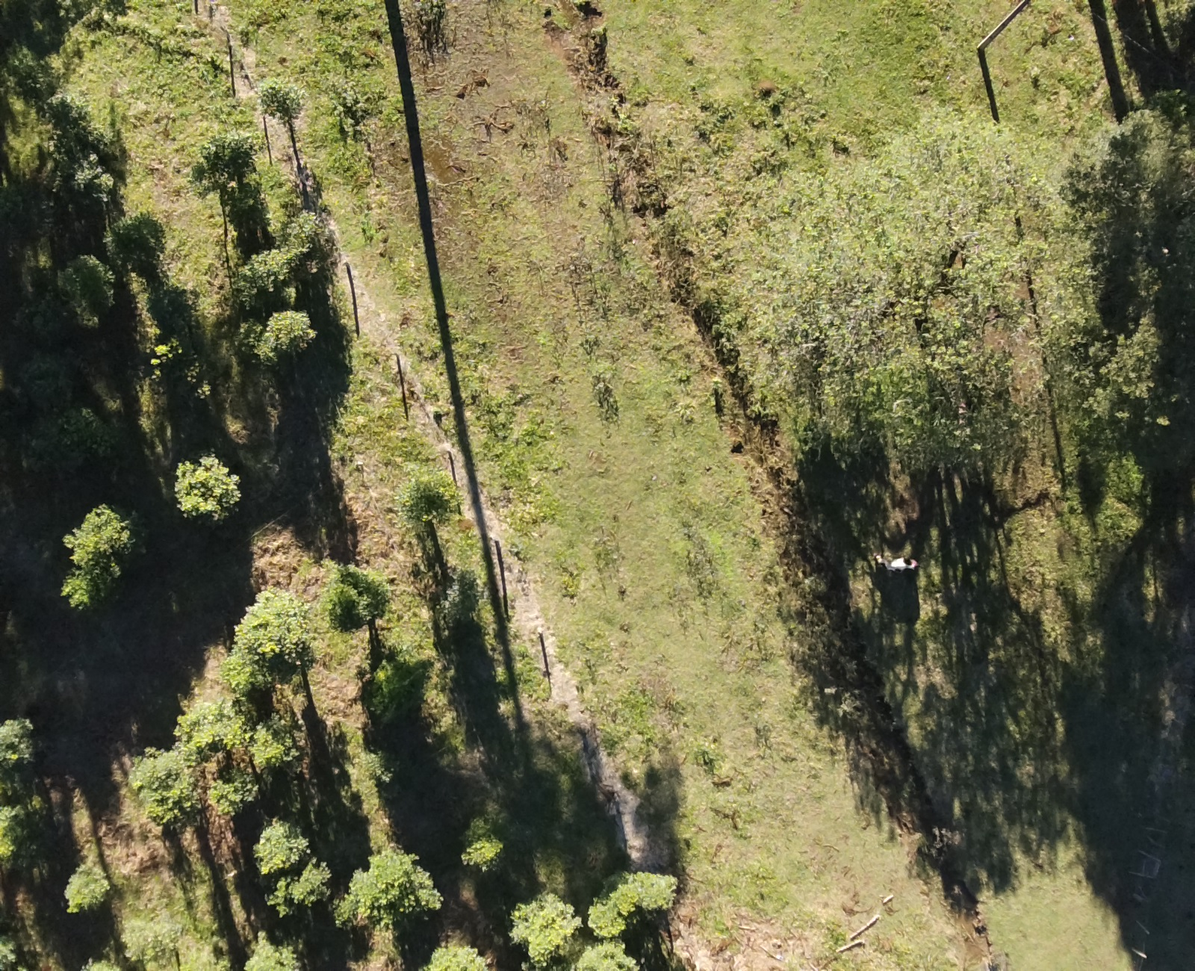erva: (122, 742, 201, 820), (430, 561, 507, 641), (43, 252, 120, 326), (159, 447, 240, 517), (510, 886, 579, 968), (237, 595, 313, 667), (352, 648, 426, 720), (58, 843, 118, 918), (240, 246, 317, 303), (261, 75, 328, 139), (386, 470, 454, 533), (177, 694, 253, 748), (186, 140, 249, 202), (107, 214, 175, 269), (251, 812, 311, 871), (258, 306, 323, 359), (332, 873, 392, 928), (327, 565, 381, 624), (613, 863, 670, 918), (243, 922, 308, 970), (124, 916, 189, 960), (66, 509, 130, 552), (250, 720, 299, 775), (208, 648, 266, 694), (210, 772, 264, 820), (55, 557, 110, 601), (583, 933, 648, 970), (429, 934, 494, 970), (459, 821, 502, 875), (285, 206, 335, 252), (368, 835, 414, 884), (0, 716, 40, 768), (405, 869, 453, 912), (589, 885, 628, 937), (291, 859, 335, 902), (257, 881, 294, 919)
